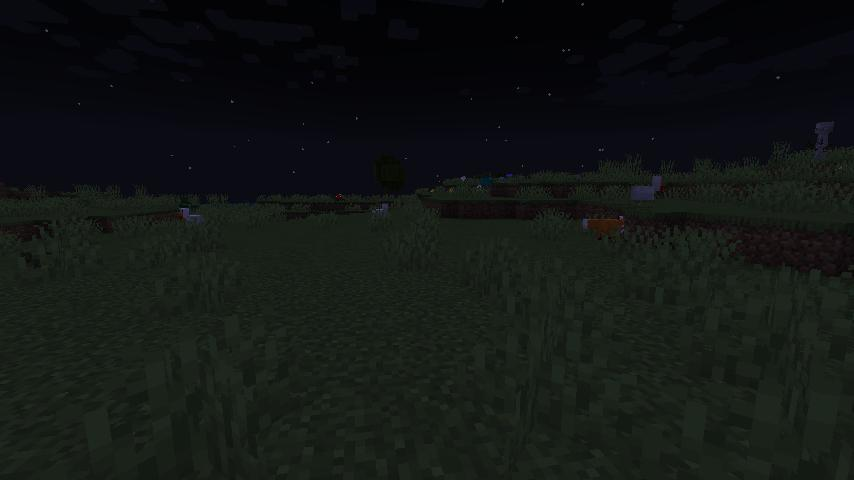chicken: (627, 175, 669, 214), (177, 207, 206, 232), (370, 202, 392, 222)
fox: (581, 214, 629, 245)
skeleton: (805, 119, 836, 165)
spider: (326, 193, 348, 203)
zombie: (179, 196, 200, 215), (480, 171, 494, 195)
